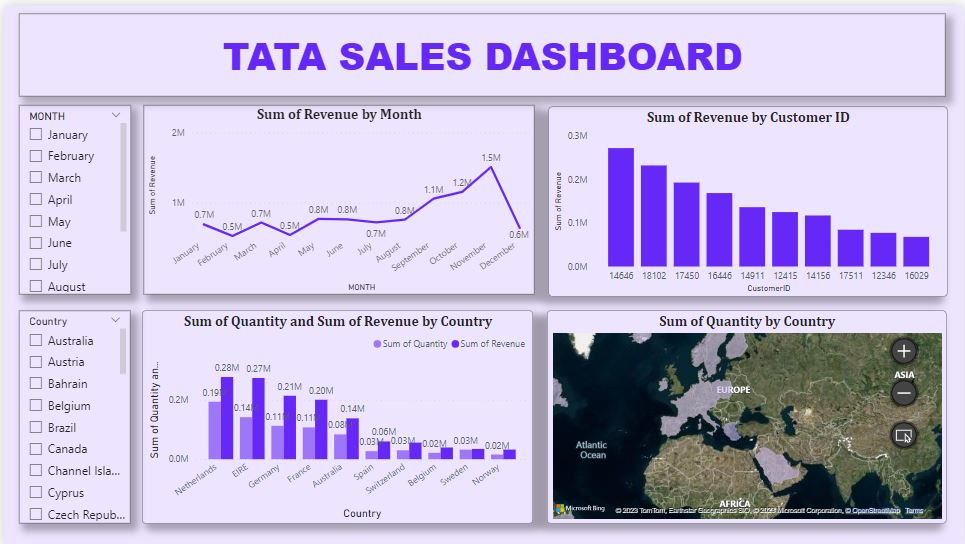

This screenshot's page, from the dashboard's own definition file:
{"tool":"powerbi","page":{"name":"Page 1","canvas":[1280,720],"ordinal":0},"visuals":[{"type":"clusteredColumnChart","title":"Sum of Quantity and Sum of Revenue by Country","fields":{"Category":["Online Retail.Country"],"Y":["Sum(Online Retail.Quantity)","Sum(Online Retail.REVENUE)"]},"box":[184.3,406.1,521.6,284.3],"z":0},{"type":"clusteredColumnChart","title":"Sum of Revenue by Customer ID","fields":{"Category":["Online Retail.CustomerID"],"Y":["Sum(Online Retail.REVENUE)"]},"box":[725,133.3,531.7,253.3],"z":1000},{"type":"filledMap","fields":{"Category":["Online Retail.Country"]},"box":[724.7,406.1,532.6,284.3],"z":2000},{"type":"slicer","fields":{"Values":["Online Retail.MONTH"]},"box":[20.8,132.2,149.1,253],"z":3000},{"type":"slicer","fields":{"Values":["Online Retail.Country"]},"box":[20.3,406.1,148.4,284.3],"z":4000},{"type":"lineChart","title":"Sum of Revenue by Month","fields":{"Y":["Sum(Online Retail.REVENUE)"],"Category":["Online Retail.MONTH"]},"box":[185,132.2,521.1,253],"z":5000},{"type":"shape","box":[20.3,10.9,1235.4,110.9],"z":6000}]}

Visuals, with their boxes in screenshot pixels (x1, y1, x2, y2), scaled from the page's 1280x720 canvas onto the 965x544 screenshot:
"Sum of Quantity and Sum of Revenue by Country" clusteredColumnChart: bbox(139, 307, 532, 522)
"Sum of Revenue by Customer ID" clusteredColumnChart: bbox(547, 101, 947, 292)
filledMap - Online Retail.Country: bbox(546, 307, 948, 522)
slicer - Online Retail.MONTH: bbox(16, 100, 128, 291)
slicer - Online Retail.Country: bbox(15, 307, 127, 522)
"Sum of Revenue by Month" lineChart: bbox(139, 100, 532, 291)
shape: bbox(15, 8, 947, 92)
